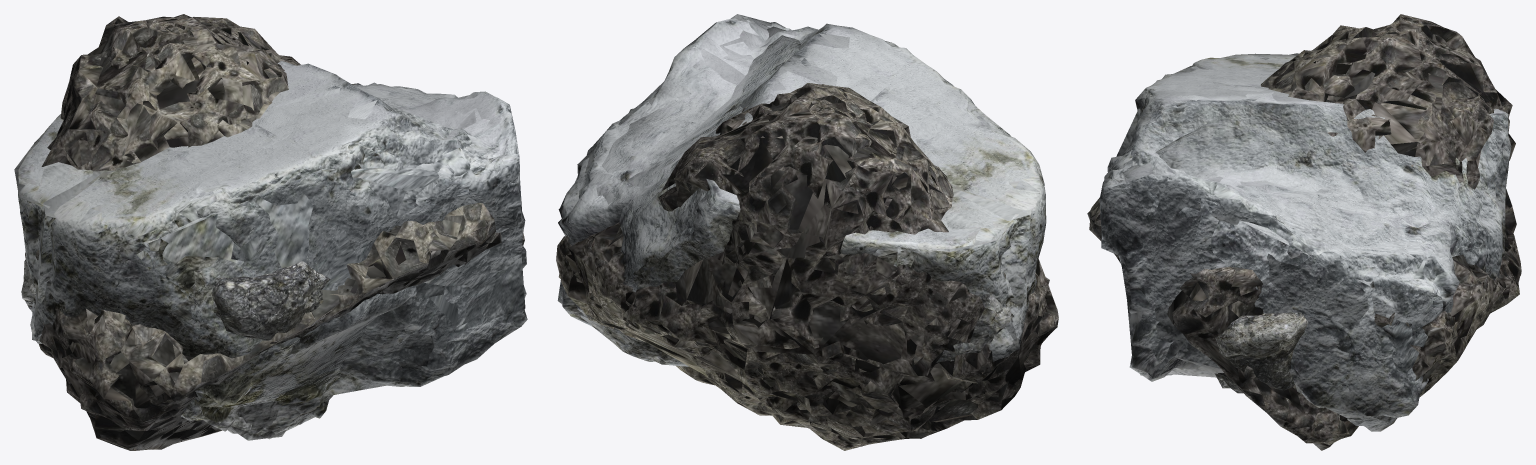
File: samples.glb
3 renders of one model, left to right at view 1: azimuth 30°, elevation 25°; view 2: azimuth 150°, elevation 25°; view 3: azimuth 270°, elevation 25°, orthographic. The views are drawn at different scales.
Parts seen in each view (by area): view 1: anorthosite_near, basalt_near, anorthosite_mid, anorthosite_far, basalt_mid, breccia_near, breccia_mid; view 2: basalt_near, anorthosite_near, basalt_mid, anorthosite_mid, anorthosite_far, basalt_far, breccia_near, breccia_mid; view 3: anorthosite_near, basalt_near, anorthosite_mid, anorthosite_far, basalt_mid, breccia_near, breccia_mid.
Part boxes in pixels (x1,y1,x2,y2): anorthosite_near: (16, 60, 527, 440); basalt_near: (25, 14, 524, 450); anorthosite_mid: (14, 64, 525, 439); anorthosite_far: (34, 85, 499, 407); basalt_mid: (44, 22, 487, 440); breccia_near: (21, 261, 322, 340); breccia_mid: (23, 259, 323, 348); basalt_near: (556, 83, 1058, 450); anorthosite_near: (558, 16, 1046, 364); basalt_mid: (568, 84, 1047, 440); anorthosite_mid: (557, 14, 1042, 366); anorthosite_far: (577, 26, 1031, 308); basalt_far: (625, 205, 961, 413); breccia_near: (938, 294, 1012, 361); breccia_mid: (936, 296, 1013, 362); anorthosite_near: (1099, 53, 1511, 431); basalt_near: (1087, 14, 1521, 450); anorthosite_mid: (1101, 58, 1508, 429); anorthosite_far: (1116, 53, 1506, 422); basalt_mid: (1090, 33, 1509, 431); breccia_near: (1217, 312, 1307, 390); breccia_mid: (1215, 313, 1303, 393).
Size of the model in its own units: 2.01 by 1.68 by 1.78.
Materials: 3 (3 with a texture image).
